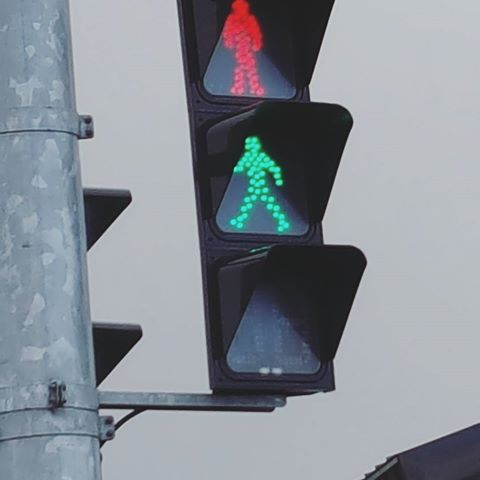traffic_light: (178, 1, 357, 243)
traffic_light_number: (201, 254, 337, 389)
